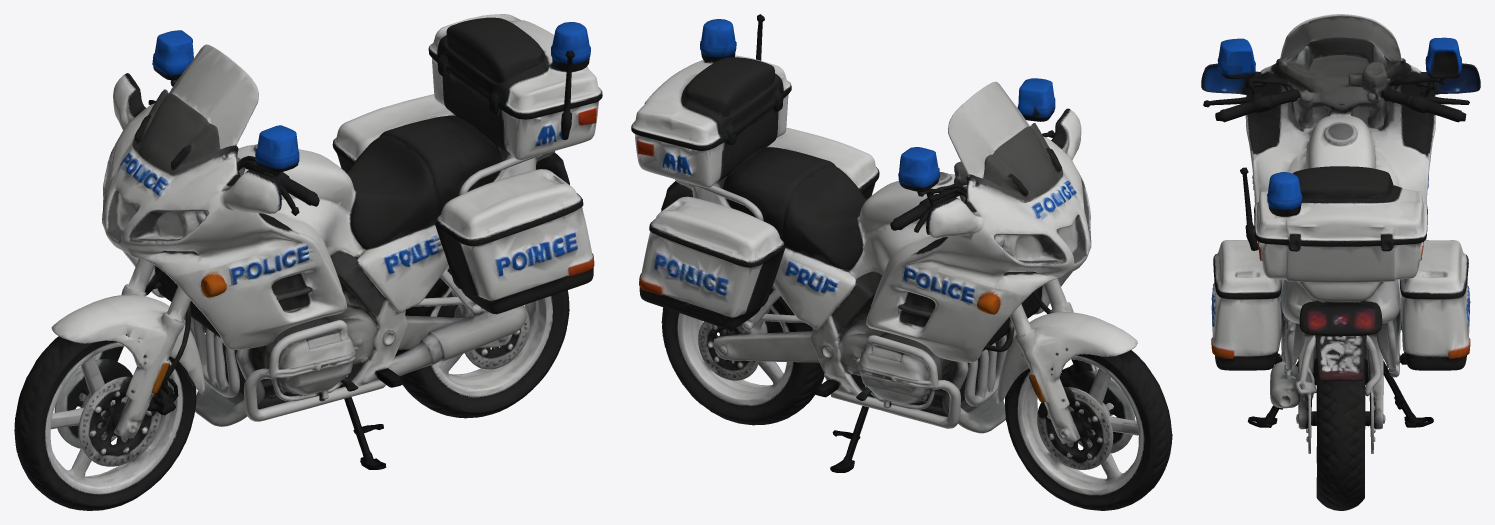
The model's file is 036_police_motorcycle.glb.
3 views of the same model, side by side, from view 1: azimuth 30°, elevation 25°; view 2: azimuth 150°, elevation 25°; view 3: azimuth 270°, elevation 25° (orthographic). The views are drawn at different scales.
Parts seen in each view (by area): view 1: geometry_0; view 2: geometry_0; view 3: geometry_0.
Part boxes in pixels (x1,y1,x2,y2): geometry_0: (14,14,602,510); geometry_0: (631,14,1172,510); geometry_0: (1201,14,1480,510).
Bounding box in the file's own units: 2.4 × 1.77 × 1.18.
Materials: 1 (1 with a texture image).
